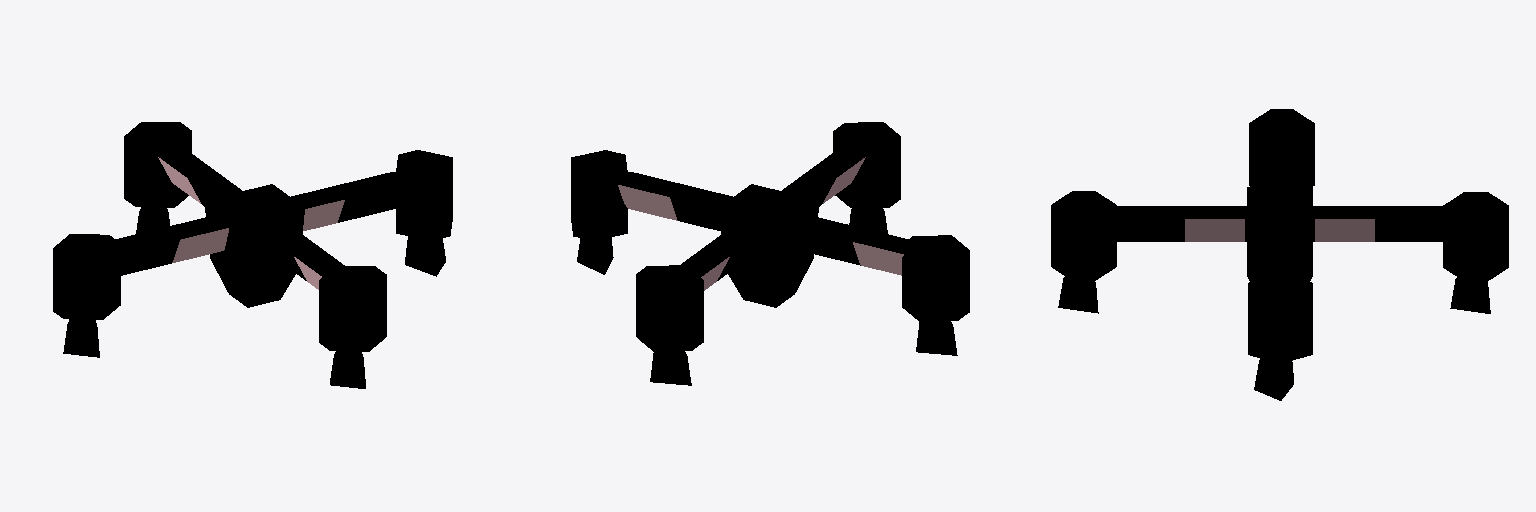
3 renders of one model, left to right at view 1: azimuth 30°, elevation 25°; view 2: azimuth 150°, elevation 25°; view 3: azimuth 270°, elevation 25°, orthographic.
Visible parts, largest first — view 1: Cube.016, Cube.010, Cube.020, Cube.019, Cube.017, Cube.018, Cube.015; view 2: Cube.016, Cube.010, Cube.018, Cube.019, Cube.017, Cube.020, Cube.015; view 3: Cube.015, Cube.017, Cube.018, Cube.020, Cube.010, Cube.019, Cube.016.
Boxes of the visible parts, x1,y1,x2,y2 form: Cube.016: [115, 172, 410, 275]; Cube.010: [204, 184, 304, 307]; Cube.020: [319, 265, 386, 388]; Cube.019: [53, 234, 120, 357]; Cube.017: [396, 150, 452, 276]; Cube.018: [124, 122, 191, 233]; Cube.015: [155, 148, 344, 289]; Cube.016: [613, 172, 907, 275]; Cube.010: [719, 184, 819, 307]; Cube.018: [636, 265, 703, 385]; Cube.019: [902, 235, 969, 355]; Cube.017: [571, 150, 627, 274]; Cube.020: [833, 122, 900, 233]; Cube.015: [681, 148, 868, 290]; Cube.015: [1109, 206, 1450, 241]; Cube.017: [1248, 274, 1312, 400]; Cube.018: [1443, 192, 1508, 313]; Cube.020: [1051, 191, 1116, 313]; Cube.010: [1247, 187, 1312, 281]; Cube.019: [1249, 109, 1314, 186]; Cube.016: [1264, 141, 1295, 277].
Size of the model in its own units: 13.91 by 3.52 by 14.
2 materials, 2 textured.